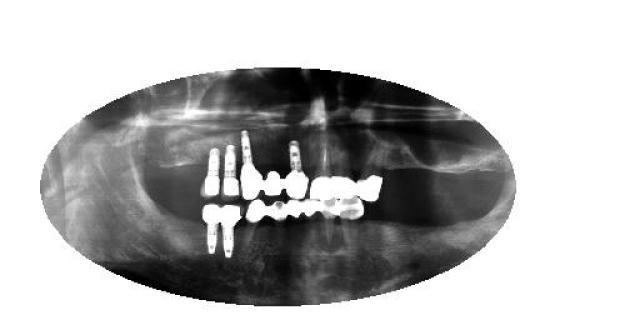Fillings: (353, 156, 382, 202), (338, 199, 362, 245), (310, 149, 331, 200), (333, 152, 355, 198), (244, 200, 265, 244), (265, 200, 286, 244), (262, 155, 282, 197), (302, 201, 322, 240), (320, 199, 338, 240), (288, 200, 302, 242)
Implant: (282, 138, 308, 198), (240, 131, 262, 200), (218, 204, 242, 258), (200, 146, 222, 198), (221, 143, 239, 195), (202, 204, 220, 255)
